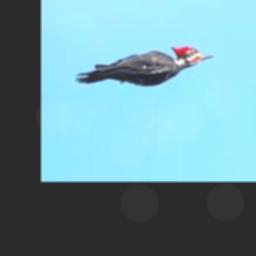Woodpecker: (74, 45, 212, 86)
